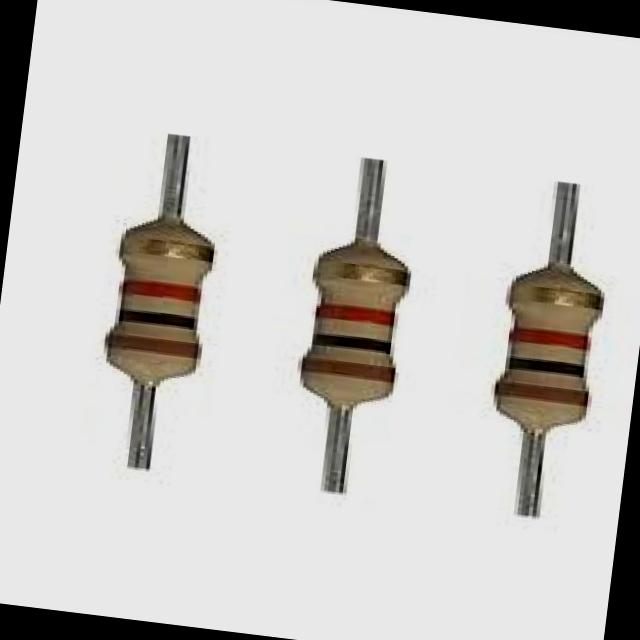Resistor: (495, 263, 603, 432), (300, 240, 409, 407), (107, 216, 213, 384)
black: (502, 356, 589, 376), (311, 335, 394, 353), (120, 310, 198, 329)
brown: (495, 380, 592, 408), (109, 333, 207, 359), (300, 359, 397, 384)
gold: (308, 259, 411, 288), (502, 285, 611, 310), (118, 237, 213, 263)
red: (307, 301, 394, 328), (510, 322, 591, 349), (117, 279, 201, 303)
